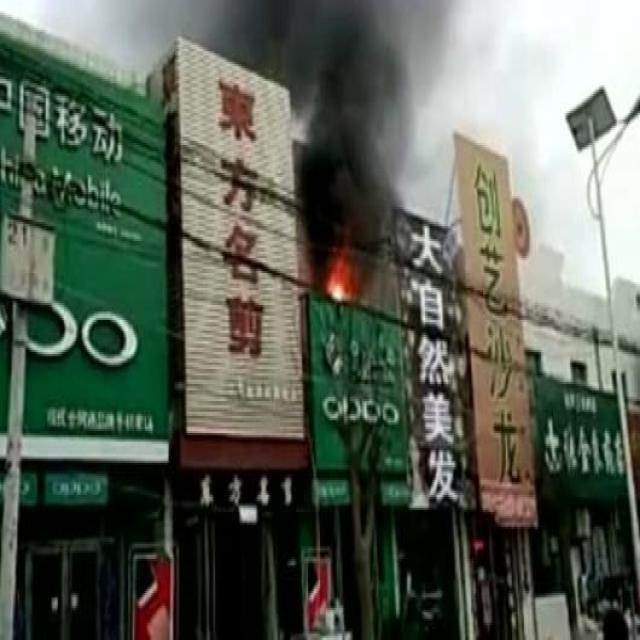Fire: (326, 262, 352, 301)
Smoke: (106, 2, 462, 305)
